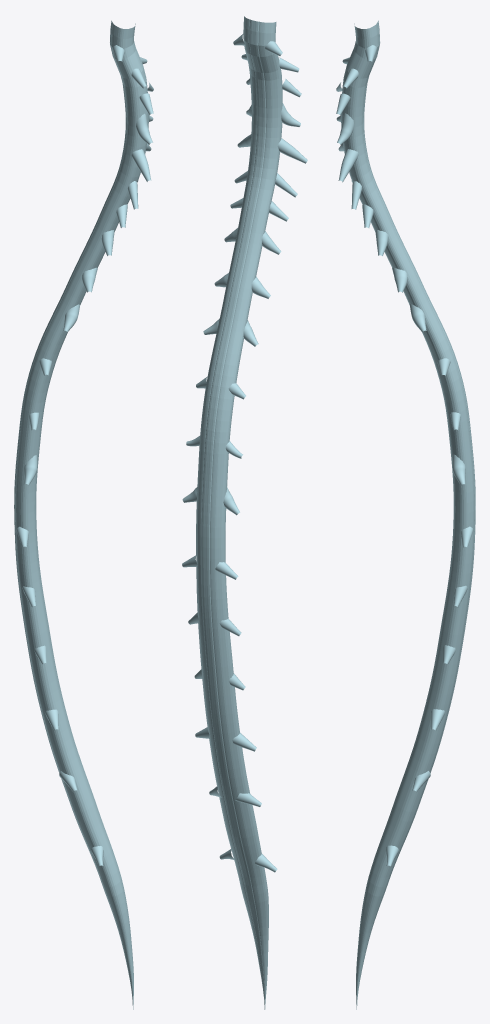
Rendered from 04_Spinal_dura.glb.
3 renders of one model, left to right at view 1: azimuth 90°, elevation 25°; view 2: azimuth 150°, elevation 25°; view 3: azimuth 270°, elevation 25°, orthographic.
Visible parts, largest first — view 1: Spinal dura; view 2: Spinal dura; view 3: Spinal dura.
Boxes of the visible parts, <box> form: Spinal dura: <box>14,20,153,1009</box>; Spinal dura: <box>182,16,307,1009</box>; Spinal dura: <box>336,20,475,1009</box>.
Size of the model in its own units: 0.0358 by 0.4906 by 0.0627.
